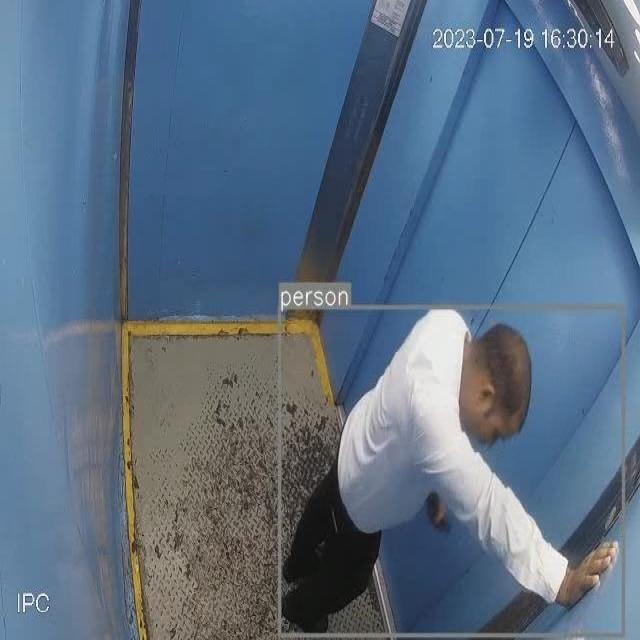person: (282, 304, 625, 636)
